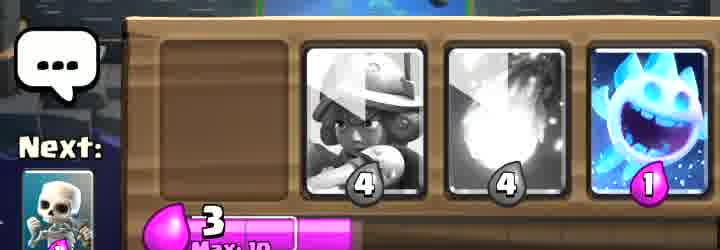ice-spirit: (595, 45, 710, 200)
skeleton: (24, 171, 93, 250)
